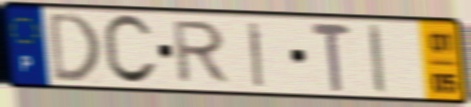C: (100, 12, 161, 88)
D: (46, 9, 103, 85)
I: (366, 21, 389, 96), (245, 20, 266, 90)
R: (171, 18, 234, 85)
T: (308, 20, 355, 94)
